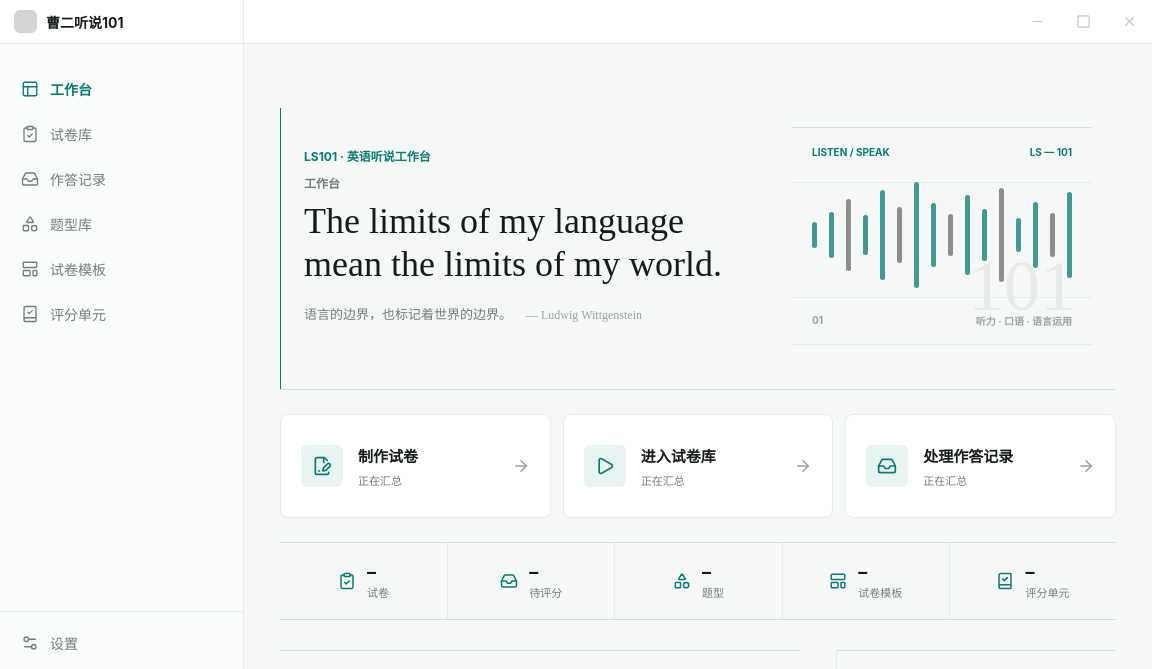
it: App › opens the interface list from the workbench
Click the link "题型库" at (56, 224), box [21,215,92,233]
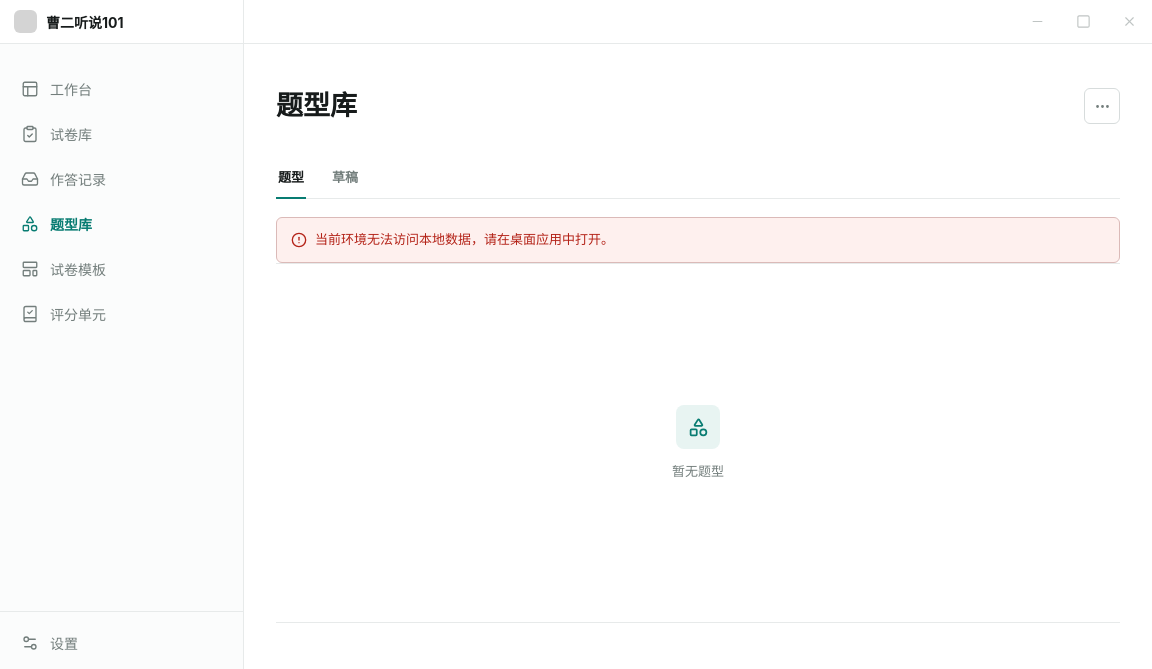
Now the heading "题型库" is shown, box [276,89,357,123]
